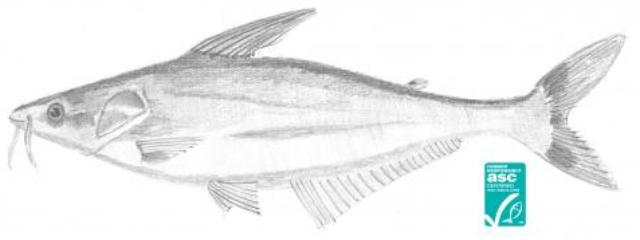Mulut: (4, 95, 44, 183)
Sirip Anal: (288, 131, 472, 229)
Sirip Dada: (132, 134, 216, 172)
Sirip Ekor: (528, 27, 622, 198)
Sirip Perut: (202, 172, 270, 222)
Sirip Punggung: (196, 5, 320, 64)
